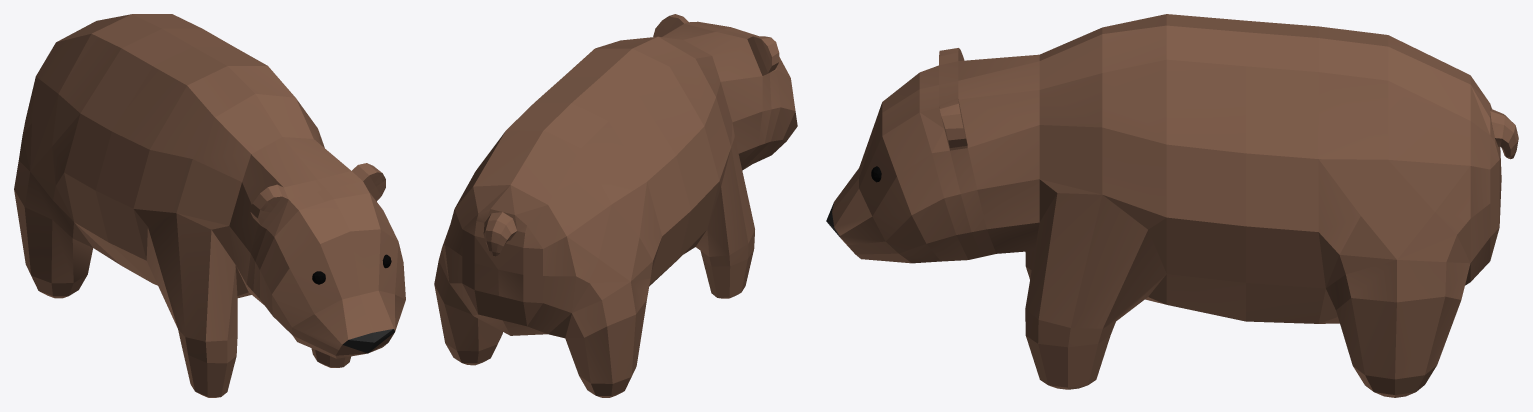
Rendered from low-poly_brown_bear.glb.
The picture shows the model from 3 angles, left to right: view 1: azimuth 30°, elevation 25°; view 2: azimuth 150°, elevation 25°; view 3: azimuth 270°, elevation 25°; orthographic projection. The views are drawn at different scales.
Visible parts, largest first — view 1: Icosphere.001_0; view 2: Icosphere.001_0; view 3: Icosphere.001_0.
Boxes of the visible parts, box(x1,y1,x2,y2) form: Icosphere.001_0: box(14, 14, 405, 397); Icosphere.001_0: box(434, 14, 797, 397); Icosphere.001_0: box(826, 14, 1518, 397).
Bounding box in the file's own units: 3.19 × 4.15 × 7.99.
